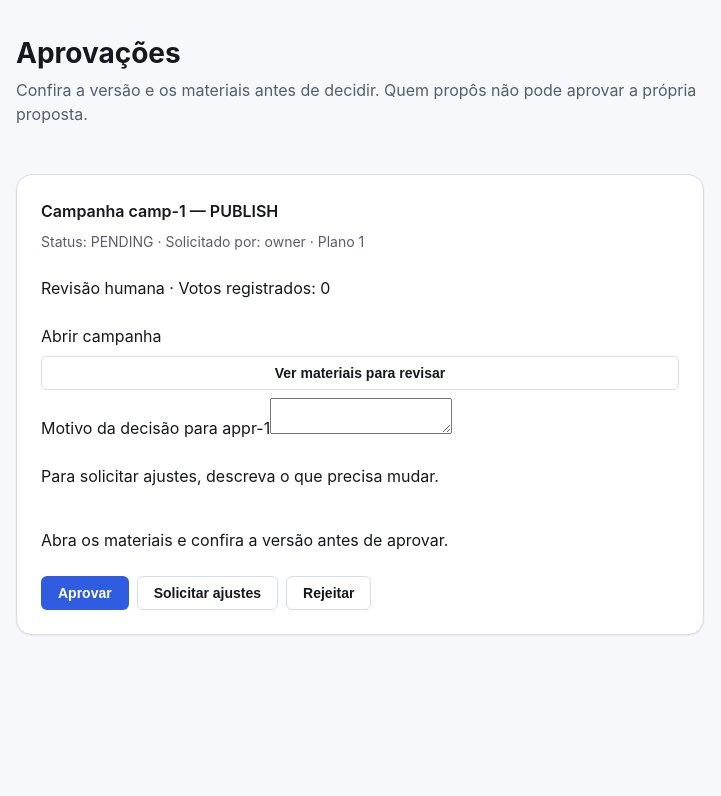
ApprovalsPage › reviews the version and materials and uses the existing step-up hook for approval
Expected: the button with test id "approve-appr-1" is disabled, [41,576,129,610]
Click the button "Ver materiais para revisar".
click(360, 373)  # box [41,356,679,390]
(page scrolled)
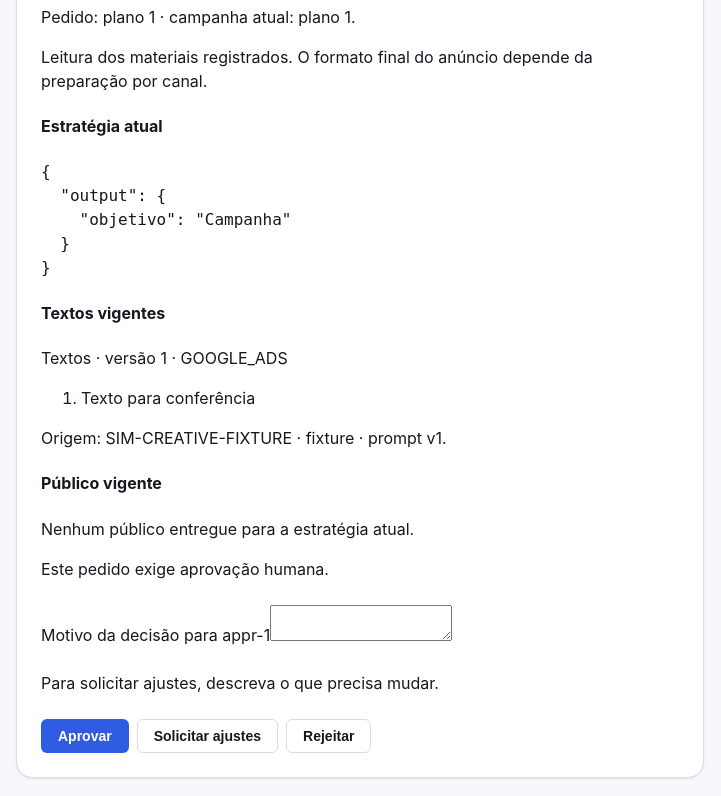
Result: the list item "Texto para conferência" is shown at [81,388,255,408]
Result: the button with test id "approve-appr-1" is enabled
Click the button with test id "approve-appr-1".
click(85, 736)  # box [41,719,129,753]
(page scrolled)
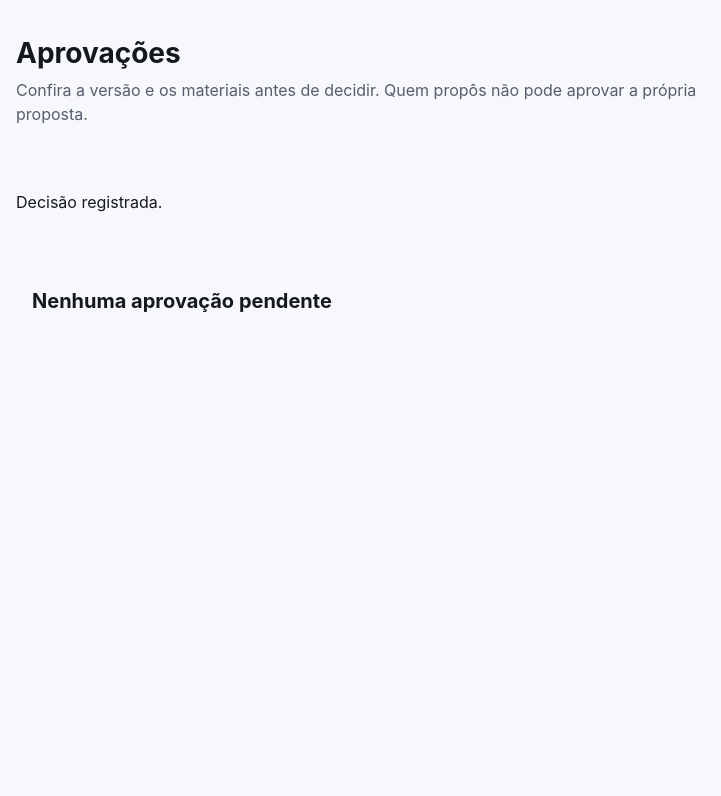
Result: the heading "Nenhuma aprovação pendente" is shown at [32,286,332,316]
